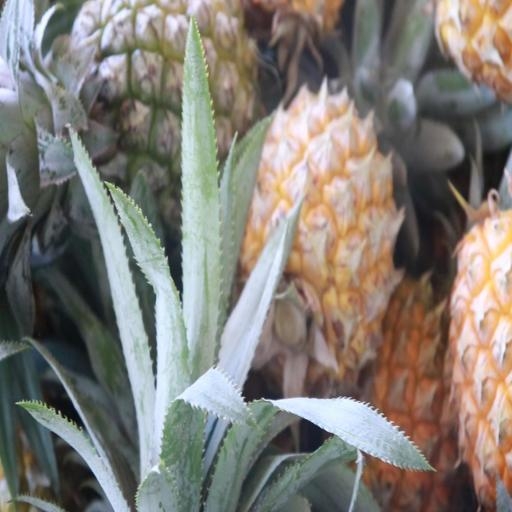Pineapple - v8 v1: (242, 91, 399, 375)
